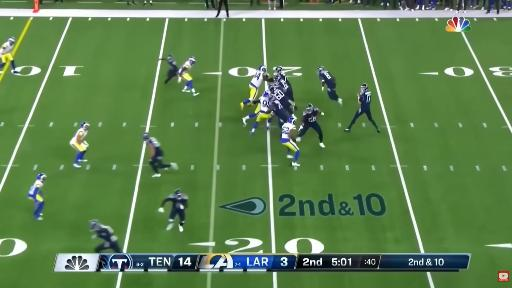Helmet: (357, 81, 369, 91), (90, 219, 99, 231), (80, 122, 91, 131), (175, 189, 183, 200), (188, 56, 197, 65), (306, 104, 315, 113), (38, 173, 47, 181), (287, 117, 297, 124), (8, 37, 16, 45), (167, 54, 174, 63), (259, 66, 267, 73), (316, 66, 323, 74), (143, 134, 150, 141), (275, 76, 281, 84), (268, 95, 275, 101), (268, 86, 276, 90), (275, 67, 282, 71), (264, 92, 269, 97)
Jersey: (273, 87, 292, 114), (278, 73, 294, 101), (161, 194, 187, 210), (70, 128, 88, 151), (27, 179, 43, 201), (146, 137, 163, 157), (96, 226, 117, 242), (319, 71, 335, 90), (250, 71, 264, 89), (71, 128, 87, 143), (359, 91, 371, 110), (303, 108, 318, 123), (260, 92, 270, 113), (282, 123, 295, 139), (278, 74, 290, 90), (179, 61, 192, 74), (0, 42, 13, 54), (167, 56, 177, 69)
Player: (345, 84, 380, 132), (143, 133, 178, 177), (240, 66, 272, 108), (159, 189, 187, 231), (240, 66, 267, 109), (297, 104, 324, 147), (269, 84, 295, 127), (89, 220, 122, 253), (27, 173, 47, 220), (250, 91, 271, 135), (318, 67, 342, 104), (281, 118, 299, 166), (70, 122, 89, 167), (269, 82, 295, 114), (178, 57, 199, 96), (275, 67, 294, 102), (0, 37, 18, 73), (270, 95, 290, 127), (160, 54, 178, 83)
